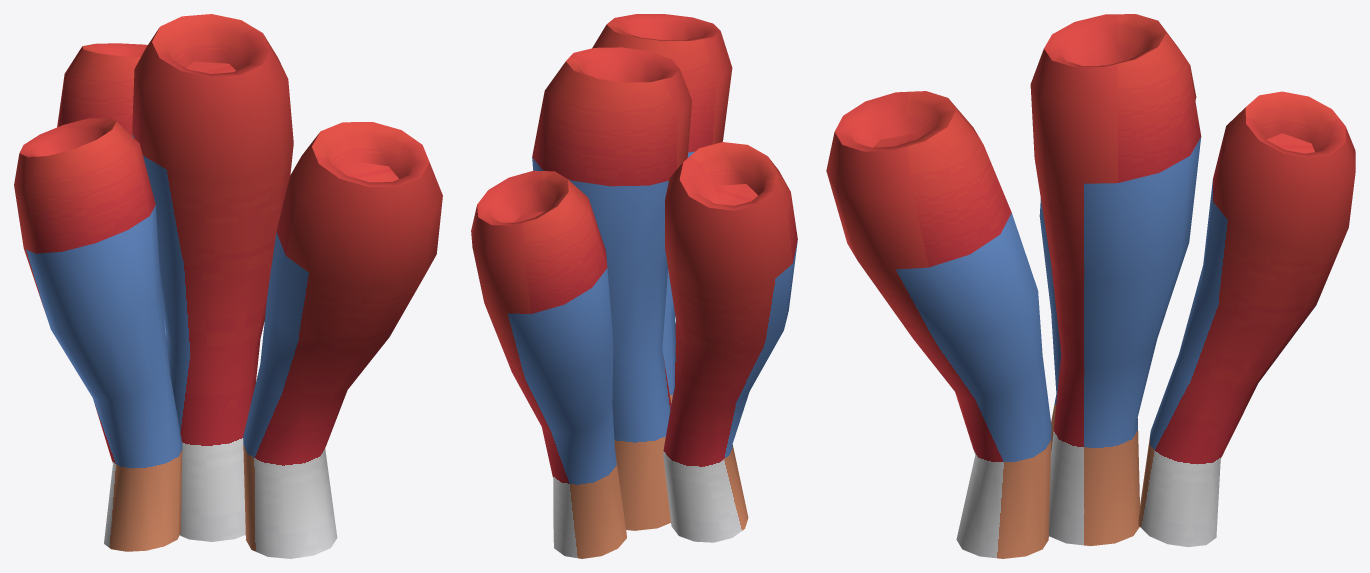
File: D_CoralReef.052.glb
The picture shows the model from 3 angles, left to right: view 1: azimuth 30°, elevation 25°; view 2: azimuth 150°, elevation 25°; view 3: azimuth 270°, elevation 25°; orthographic projection. The views are drawn at different scales.
Visible parts, largest first — view 1: D_CoralReef.052; view 2: D_CoralReef.052; view 3: D_CoralReef.052.
Boxes of the visible parts, left/top/right/bottom form: D_CoralReef.052: left=14, top=14, right=442, bottom=558; D_CoralReef.052: left=471, top=14, right=797, bottom=558; D_CoralReef.052: left=826, top=14, right=1355, bottom=558.
Bounding box in the file's own units: 0.144 × 0.2148 × 0.2055.
1 material, 1 textured.
